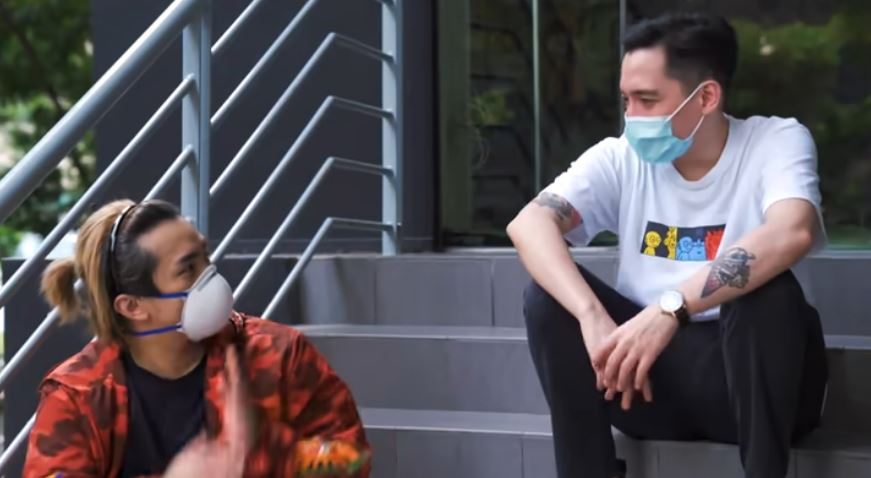with_mask: (157, 235, 227, 329), (622, 65, 678, 155)
